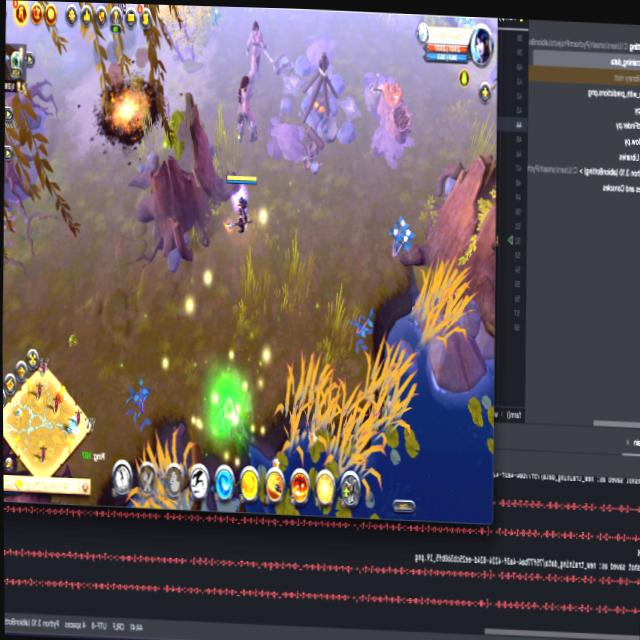hide: (382, 213, 415, 264), (207, 6, 219, 32)
ore: (231, 65, 261, 156), (243, 17, 274, 85)
red: (220, 168, 261, 240)
